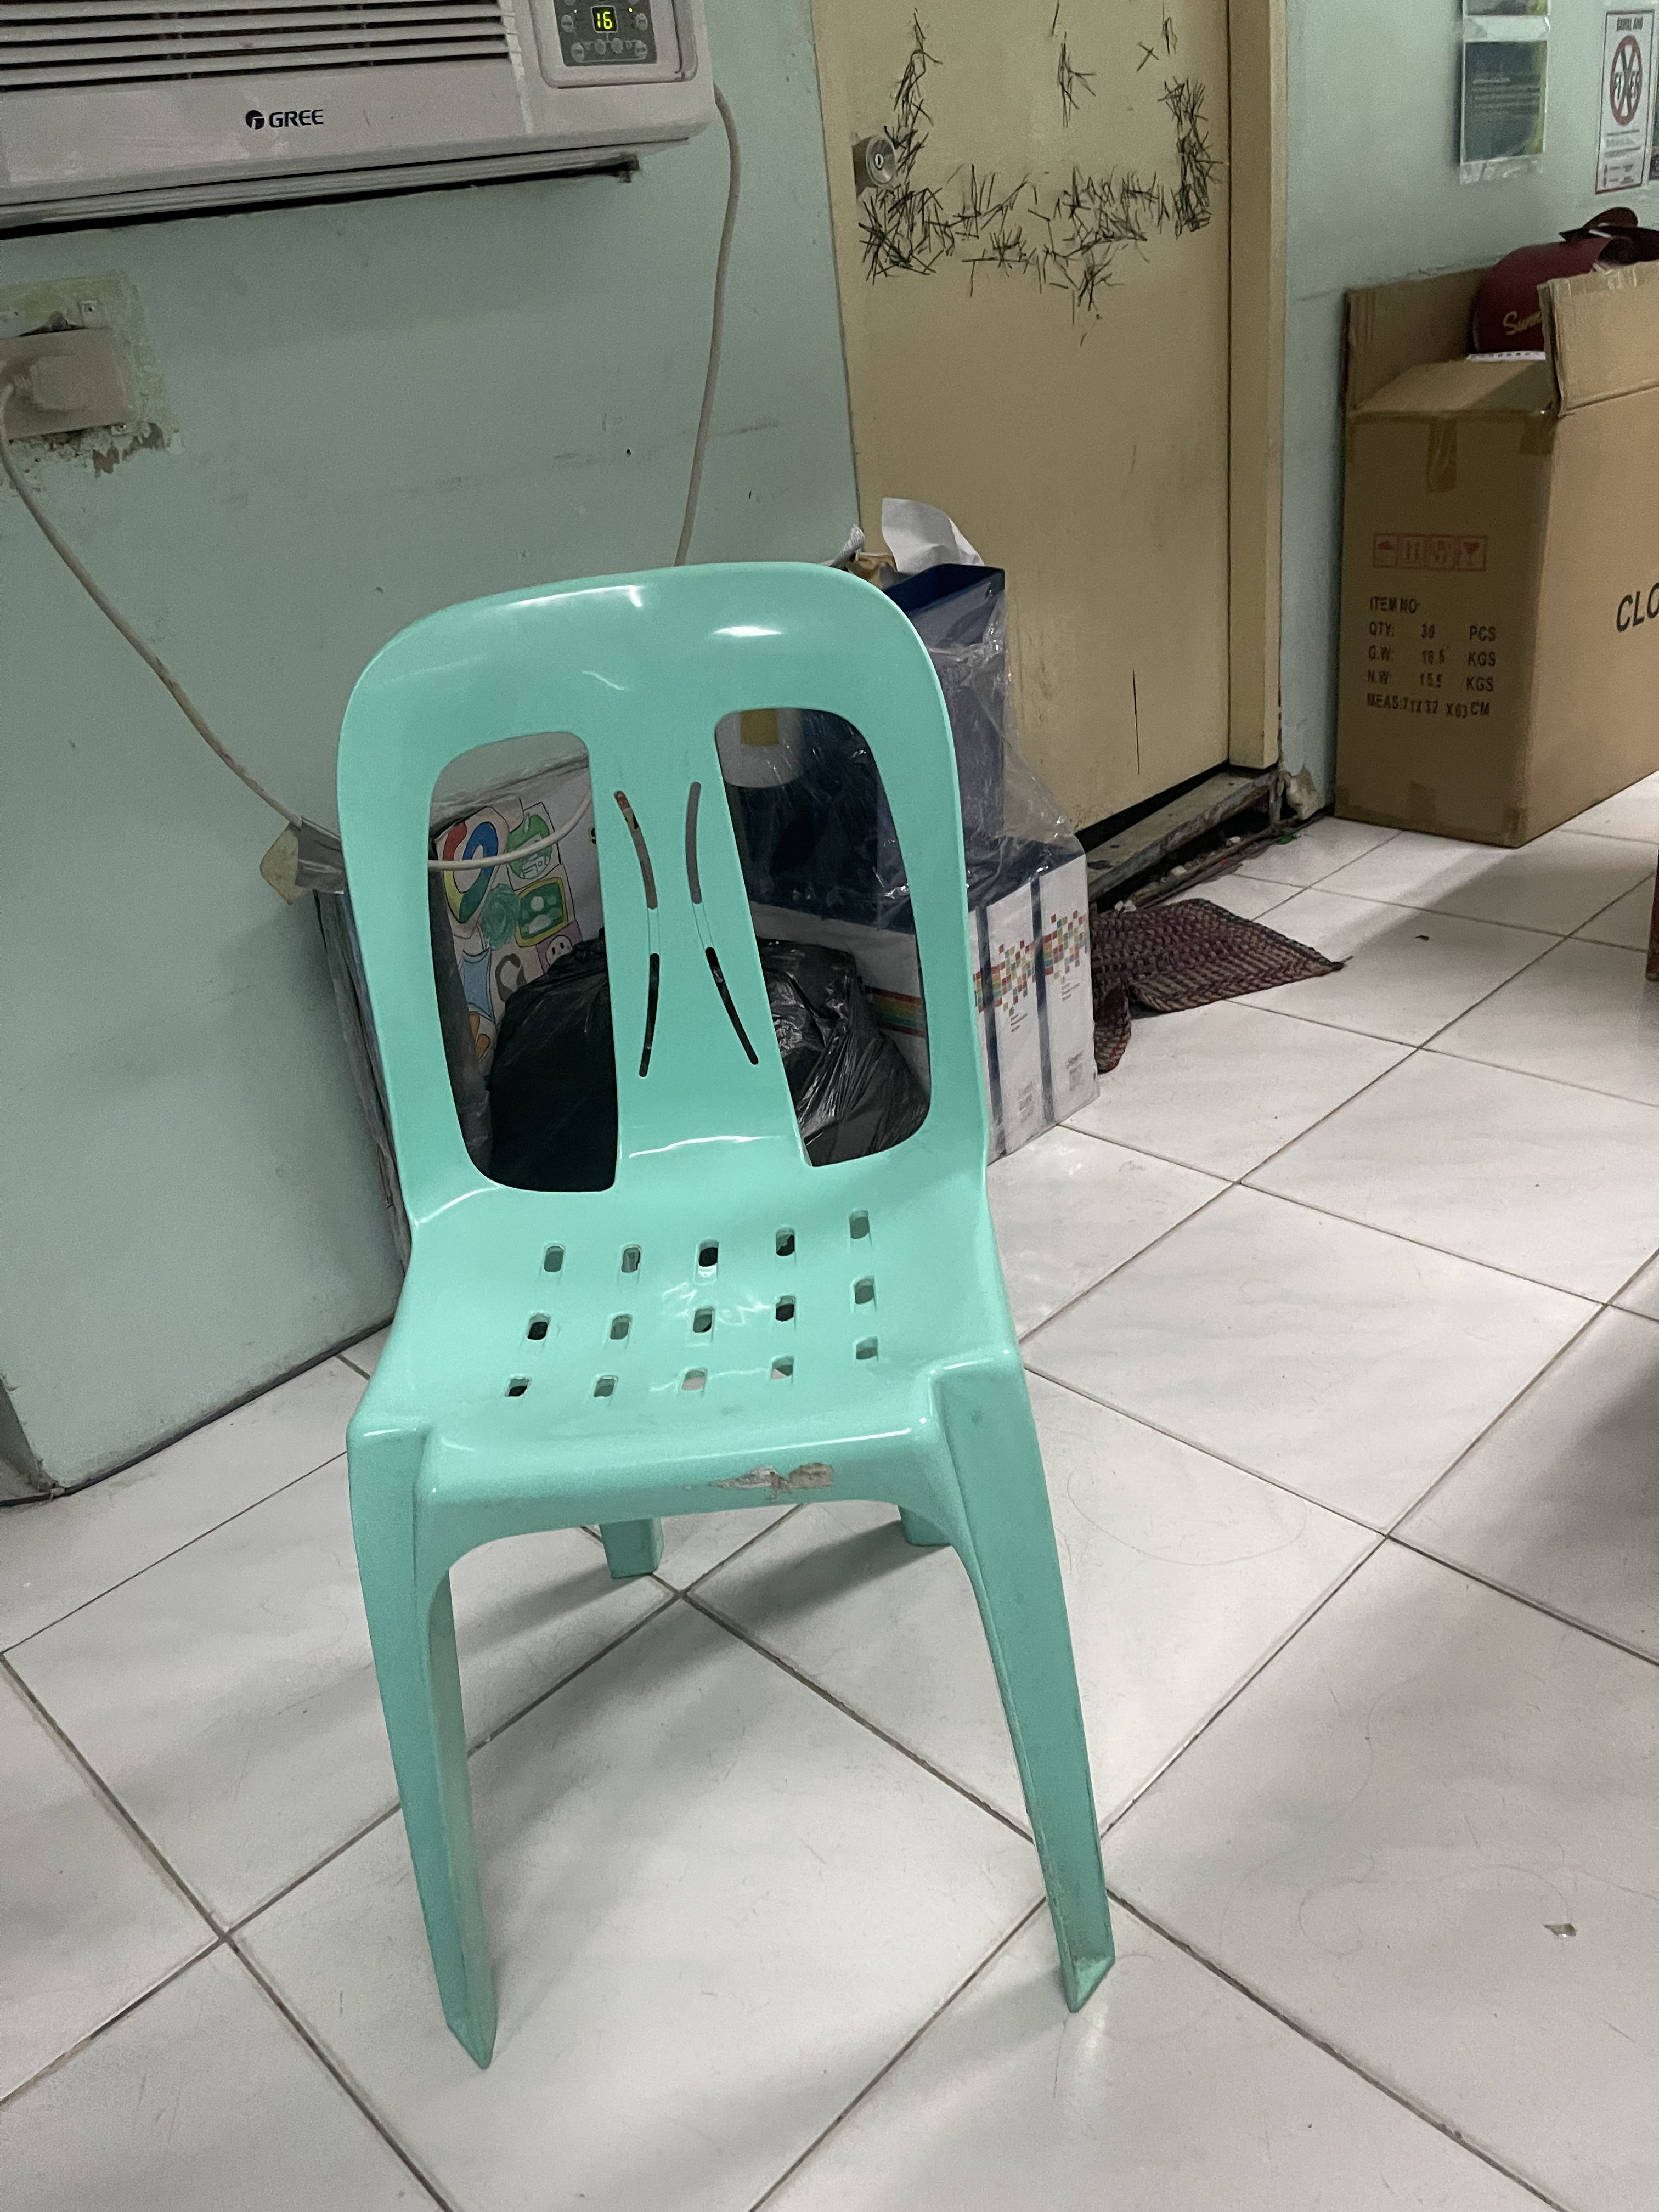chair2: (312, 550, 1131, 2078)
